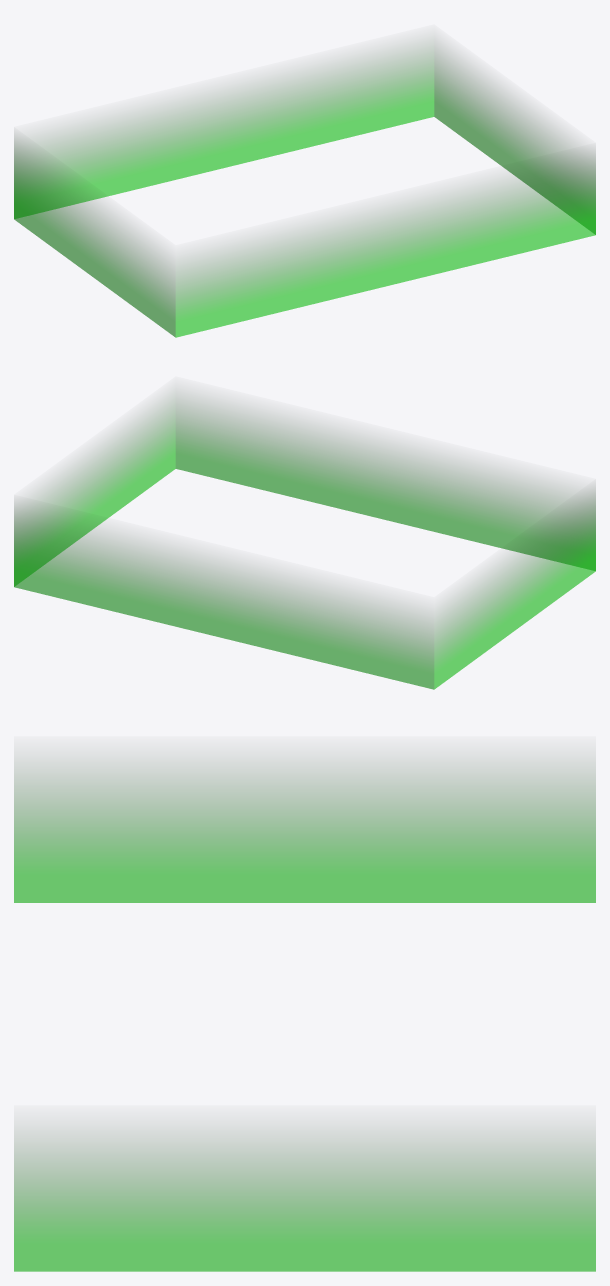
Rendered from halo-cube-2x3.glb.
The picture shows the model from 3 angles, top to bottom: view 1: azimuth 30°, elevation 25°; view 2: azimuth 150°, elevation 25°; view 3: azimuth 270°, elevation 25°; orthographic projection. The views are drawn at different scales.
Parts seen in each view (by area): view 1: Cube; view 2: Cube; view 3: Cube.
Boxes of the visible parts, x1,y1,x2,y2 form: Cube: (14,43,595,337); Cube: (14,395,595,689); Cube: (14,770,595,1271).
Size of the model in its own units: 3 by 0.7 by 2.
1 material, 1 textured.
